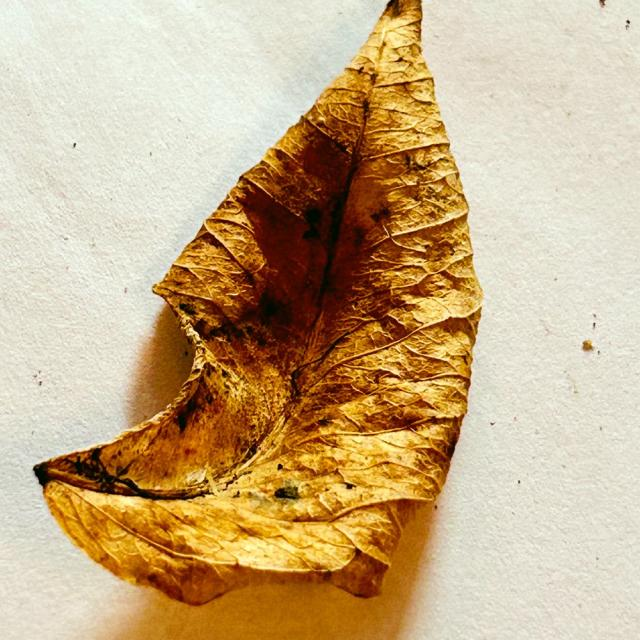DryLeaf_Lemon: (35, 0, 482, 604)
